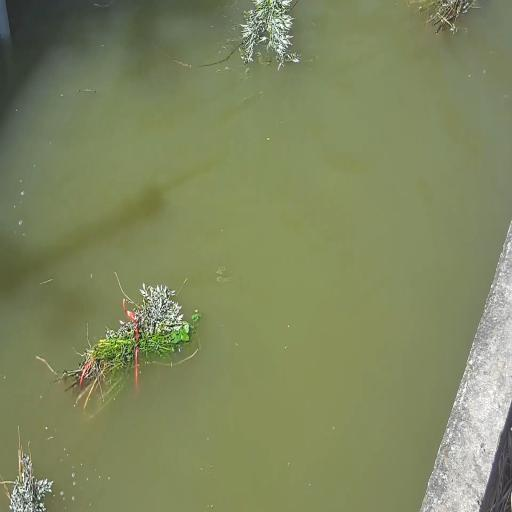twig: (45, 276, 204, 412), (160, 3, 295, 72), (0, 425, 53, 510), (403, 1, 480, 38)
